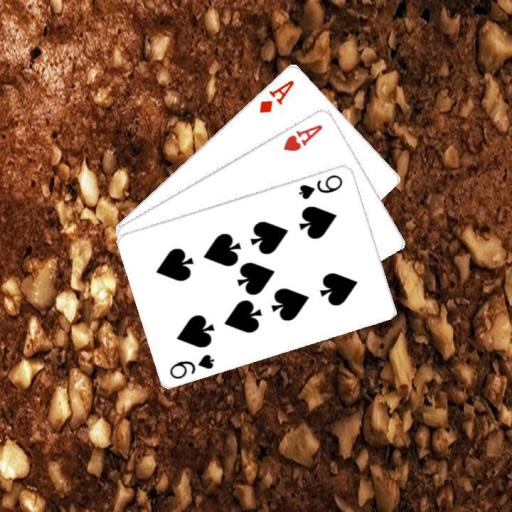9S: (295, 171, 345, 201), (167, 351, 217, 381)
AD: (256, 76, 297, 115)
AH: (280, 120, 325, 153)
